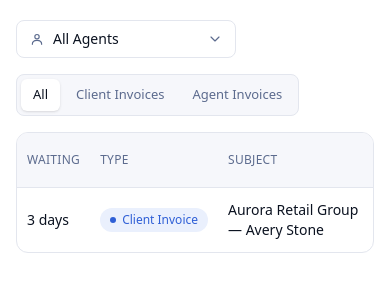
Scenario: ManagerInvoicesView dropdown › offers the same rows with their count as the second line
This screenshot has width=390, height=288.
Click the button "All Agents".
click(126, 39)  # box [16, 20, 236, 58]
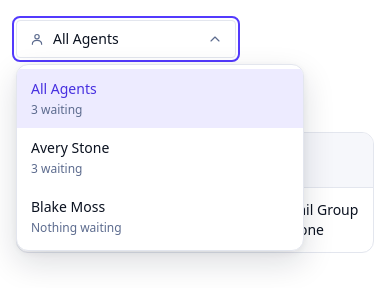
expect the options read "All Agents3 waiting", "Avery Stone3 waiting", "Blake MossNothing waiting", in this order: met, box [17, 69, 303, 128]; [17, 128, 303, 187]; [17, 187, 303, 246]
